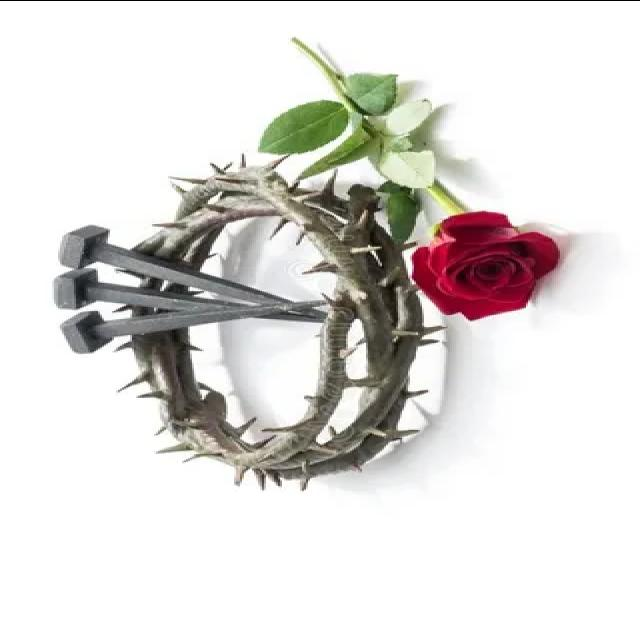crown: (111, 161, 417, 489)
